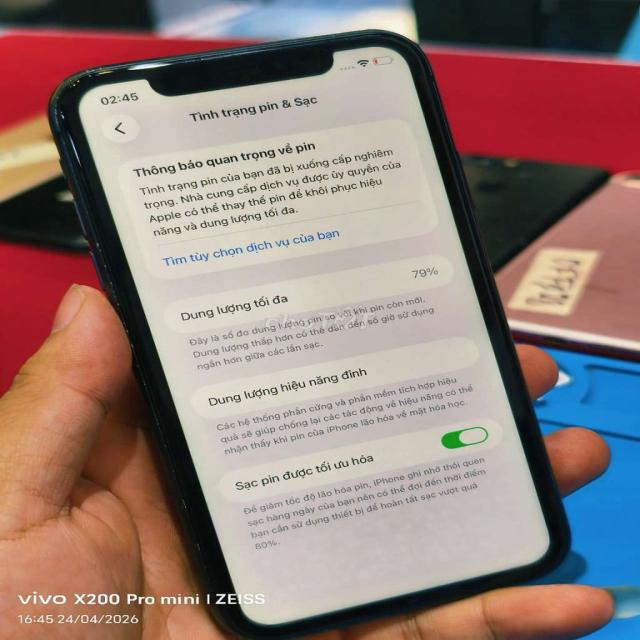gen_11: (38, 27, 576, 637)
